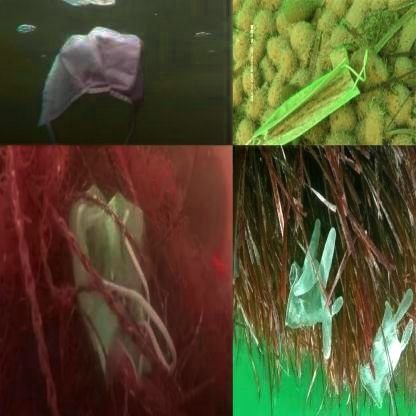Mask: (60, 154, 188, 416), (234, 36, 375, 144), (39, 26, 148, 146)
glove: (284, 218, 344, 362), (360, 288, 415, 413)
